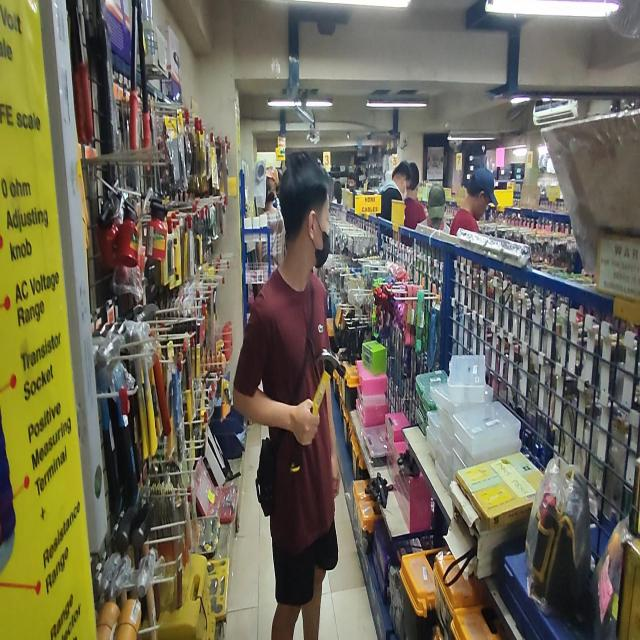hammer: (290, 349, 346, 472)
